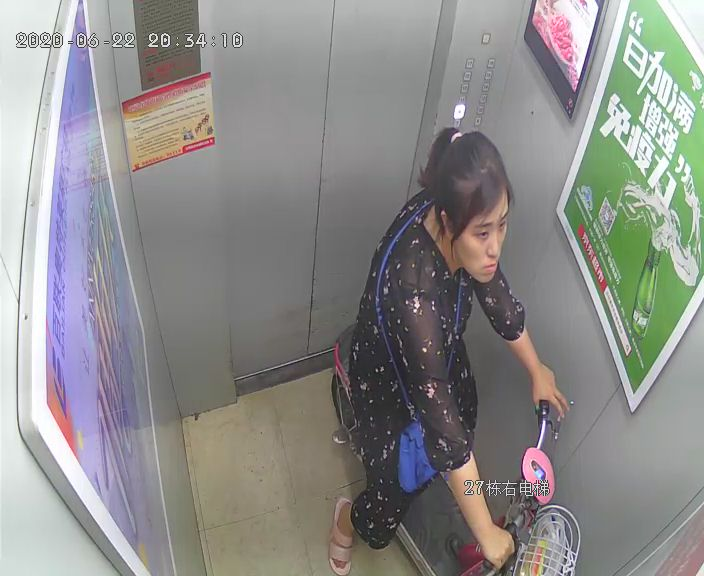Electric-bicycle: (332, 327, 580, 576)
